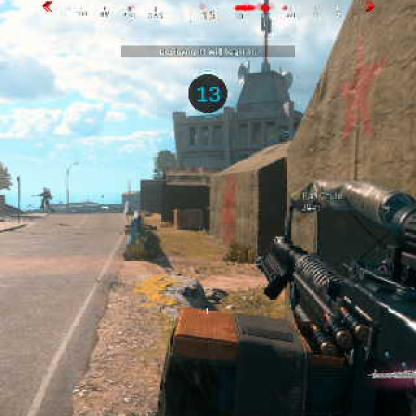enemy: (38, 187, 53, 212)
